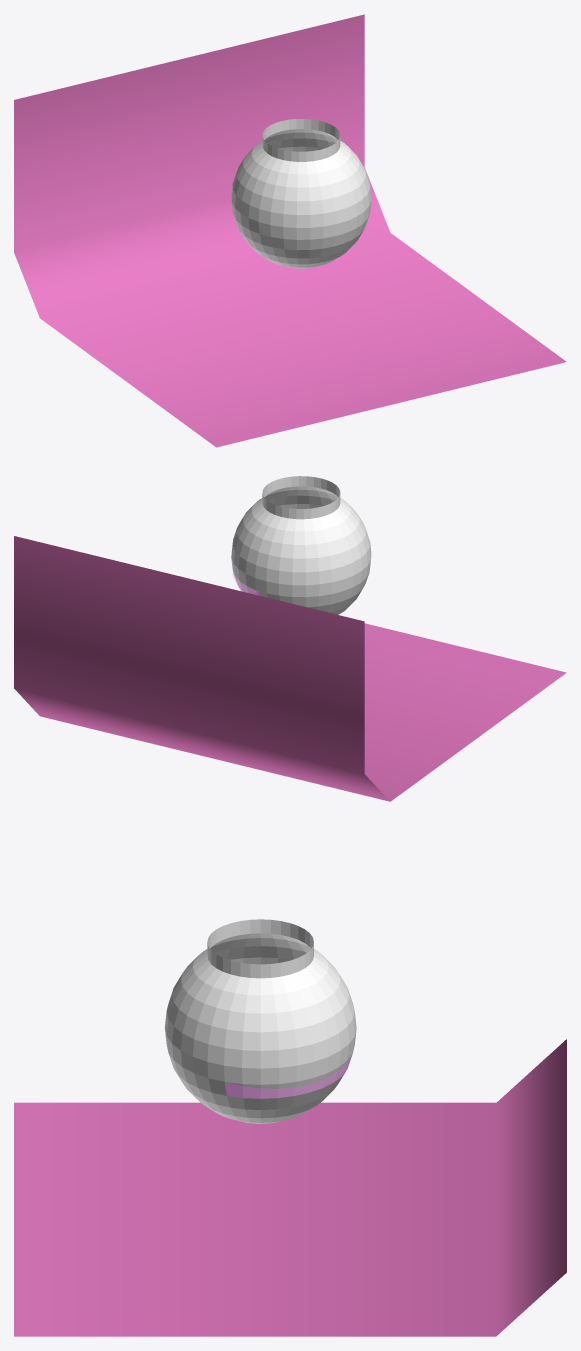
The model's file is Elixir_2.glb.
3 renders of one model, top to bottom at view 1: azimuth 30°, elevation 25°; view 2: azimuth 150°, elevation 25°; view 3: azimuth 270°, elevation 25°, orthographic. The views are drawn at different scales.
Parts seen in each view (by area): view 1: Plane, Sphere; view 2: Plane, Sphere; view 3: Plane, Sphere, Liquid.
Part boxes in pixels (left/top/right/bottom): Plane: left=14, top=14, right=566, bottom=447; Sphere: left=231, top=119, right=371, bottom=268; Plane: left=14, top=536, right=566, bottom=801; Sphere: left=231, top=476, right=371, bottom=614; Plane: left=14, top=1039, right=566, bottom=1336; Sphere: left=164, top=919, right=356, bottom=1123; Liquid: left=225, top=1054, right=352, bottom=1098.
Bounding box in the file's own units: 5.76 × 3.19 × 5.76.
